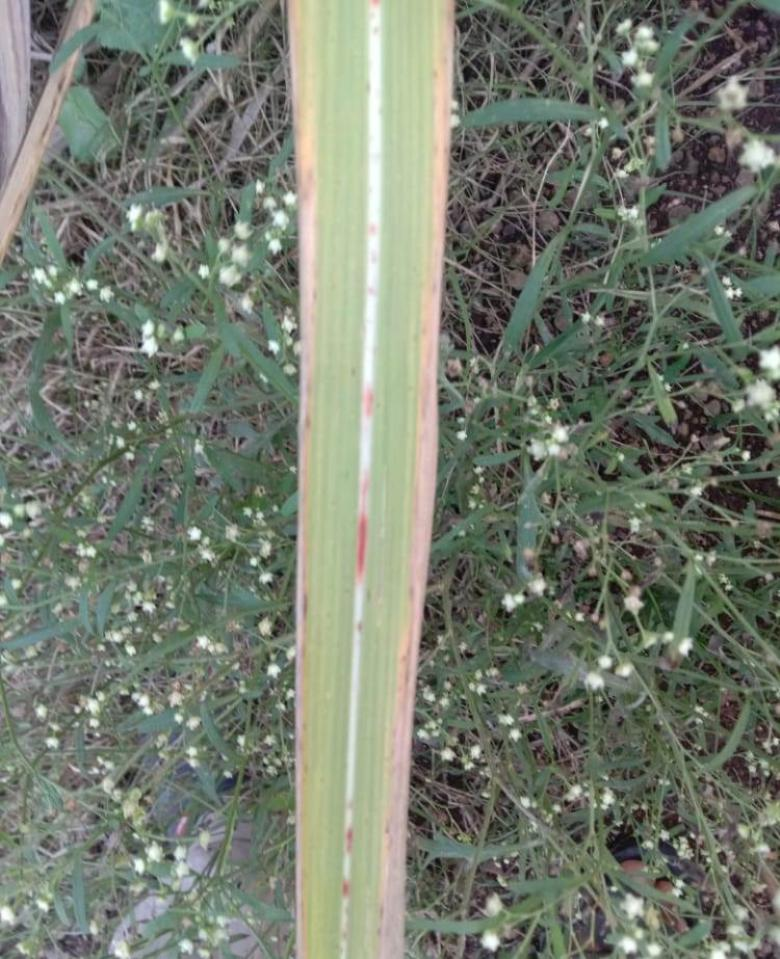RedRot: (357, 469, 370, 584), (342, 821, 354, 943), (365, 378, 375, 418), (369, 225, 377, 236), (371, 250, 377, 264), (368, 286, 377, 295), (370, 0, 378, 8), (357, 621, 361, 634)
Rust: (367, 78, 372, 96), (372, 25, 379, 34)
Yellow: (379, 0, 455, 959), (286, 0, 314, 959)
